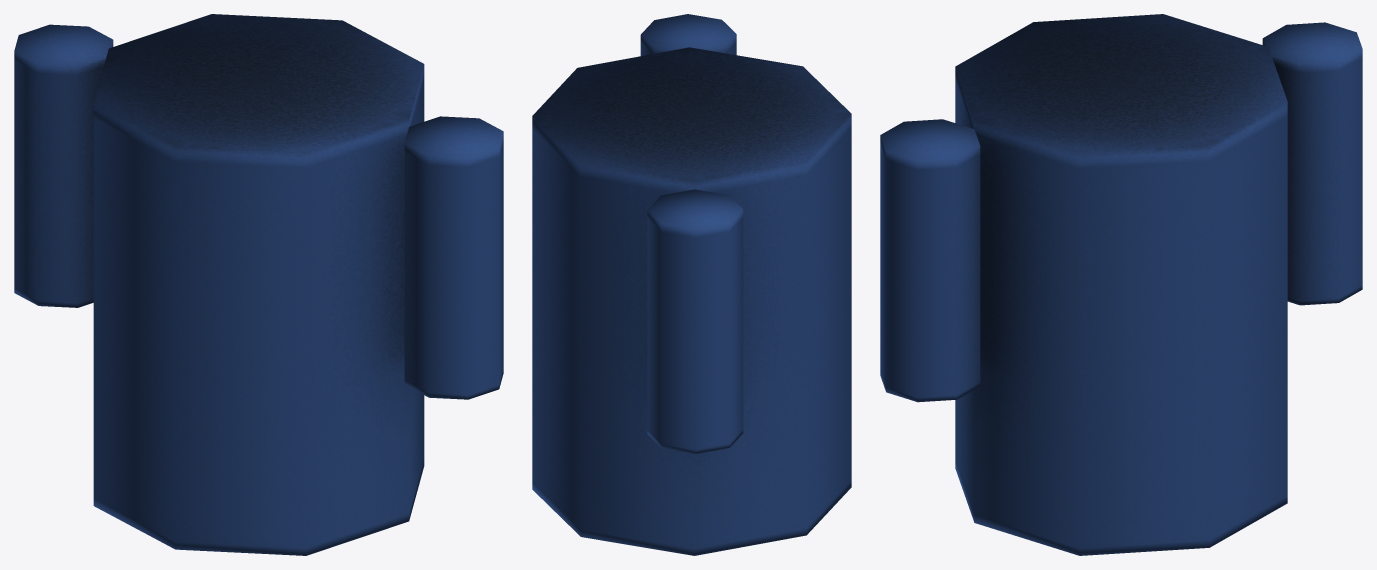
The model's file is Android_blue.dae.
The picture shows the model from 3 angles, left to right: view 1: azimuth 30°, elevation 25°; view 2: azimuth 150°, elevation 25°; view 3: azimuth 270°, elevation 25°; orthographic projection. The views are drawn at different scales.
Visible parts, largest first — view 1: Body, LeftHand, RightHand; view 2: Body, RightHand, LeftHand; view 3: Body, LeftHand, RightHand.
Part boxes in pixels (left/top/right/bottom): Body: left=93, top=14, right=424, bottom=555; LeftHand: left=404, top=116, right=503, bottom=399; RightHand: left=14, top=24, right=113, bottom=307; Body: left=532, top=47, right=851, bottom=555; RightHand: left=647, top=189, right=743, bottom=453; LeftHand: left=640, top=14, right=736, bottom=55; Body: left=955, top=14, right=1287, bottom=555; LeftHand: left=880, top=119, right=980, bottom=402; RightHand: left=1262, top=22, right=1362, bottom=305.
Bounding box in the file's own units: 1.94 × 2.81 × 2.58.
1 material, 1 textured.
